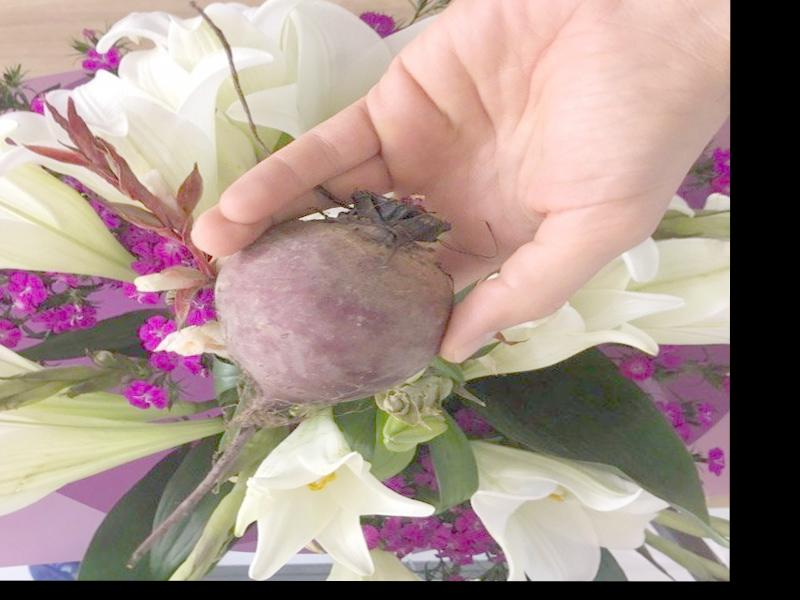Beet: (125, 193, 453, 565)
